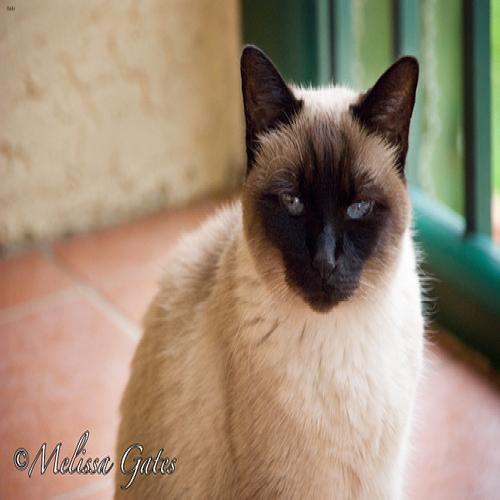siamese: (234, 21, 425, 324)
